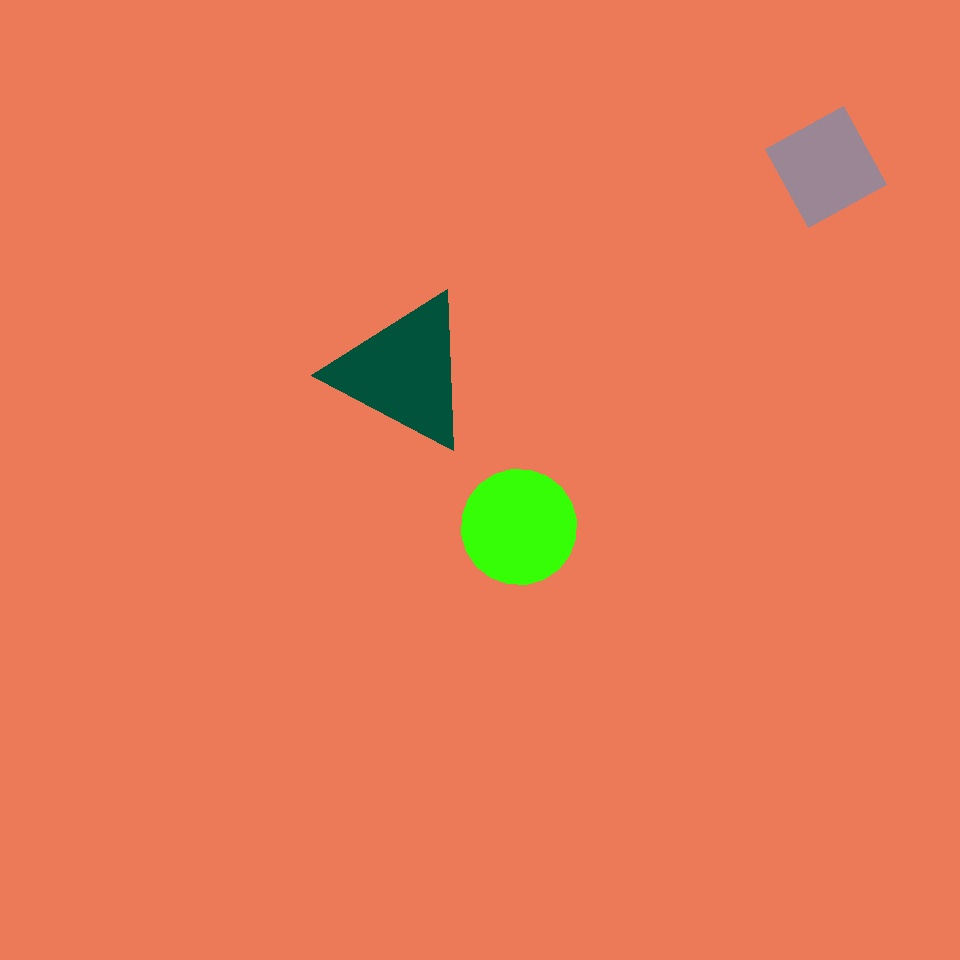circle: (193, 549, 471, 791), (333, 292, 475, 452)
square: (37, 156, 281, 400), (766, 106, 886, 228), (375, 458, 489, 571)
triangle: (99, 145, 439, 485), (462, 470, 576, 584)
